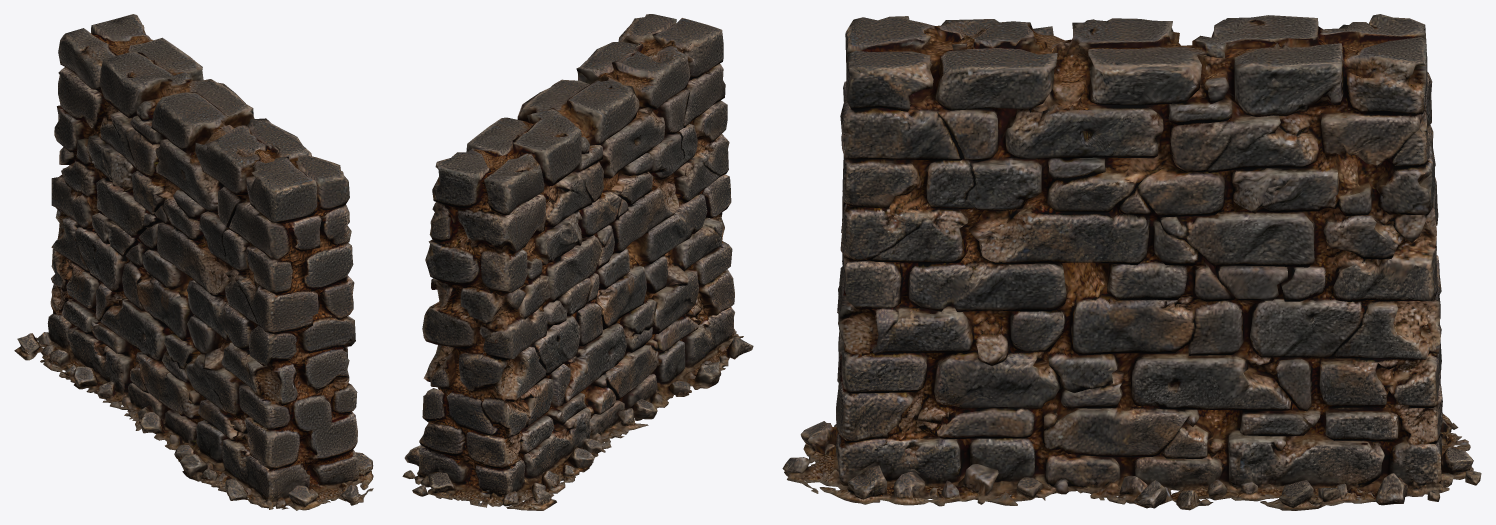
Rendered from wall.glb.
The picture shows the model from 3 angles, left to right: view 1: azimuth 30°, elevation 25°; view 2: azimuth 150°, elevation 25°; view 3: azimuth 270°, elevation 25°; orthographic projection. The views are drawn at different scales.
Parts seen in each view (by area): view 1: tripo_node_17f6c8cf-8d25-49d9-9b0c-cc53bd2c5f4a; view 2: tripo_node_17f6c8cf-8d25-49d9-9b0c-cc53bd2c5f4a; view 3: tripo_node_17f6c8cf-8d25-49d9-9b0c-cc53bd2c5f4a.
Part boxes in pixels (box(x1,y1,x2,y2)): tripo_node_17f6c8cf-8d25-49d9-9b0c-cc53bd2c5f4a: box(14, 14, 373, 510); tripo_node_17f6c8cf-8d25-49d9-9b0c-cc53bd2c5f4a: box(402, 14, 753, 510); tripo_node_17f6c8cf-8d25-49d9-9b0c-cc53bd2c5f4a: box(782, 14, 1481, 510).
Size of the model in its own units: 0.3611 by 0.673 by 1.
1 material, 1 textured.
